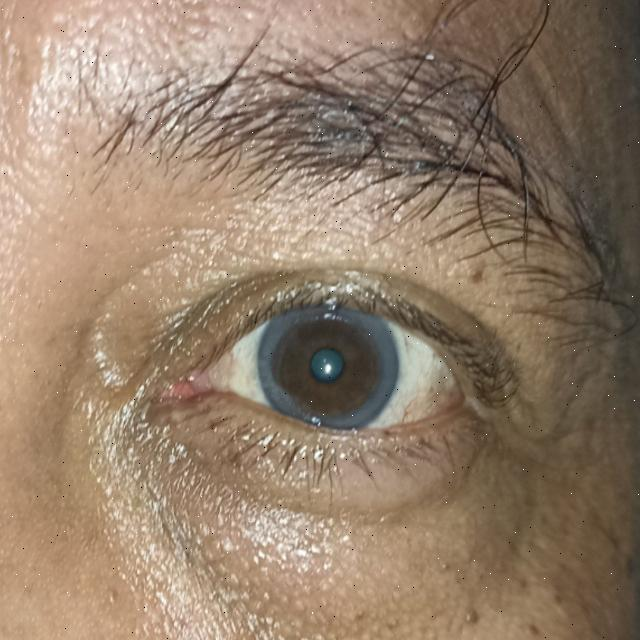Cataract: (261, 289, 398, 436)
